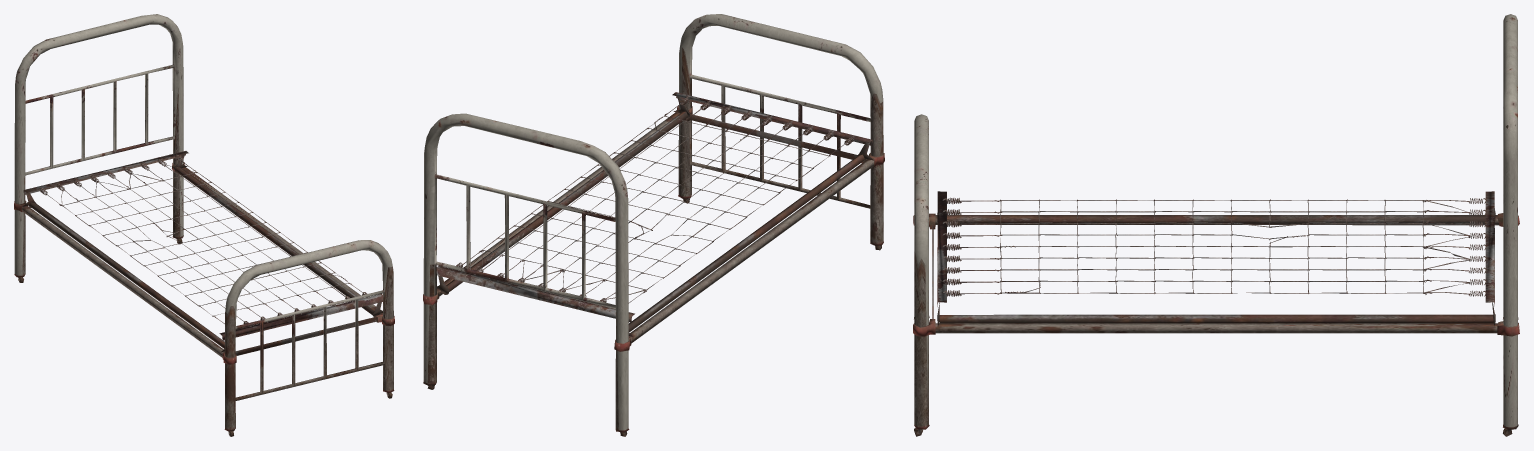
The model's file is old_bed_frame.glb.
3 views of the same model, side by side, from view 1: azimuth 30°, elevation 25°; view 2: azimuth 150°, elevation 25°; view 3: azimuth 270°, elevation 25° (orthographic). The views are drawn at different scales.
Visible parts, largest first — view 1: old_bed_frame; view 2: old_bed_frame; view 3: old_bed_frame.
Part boxes in pixels (x1,y1,x2,y2): old_bed_frame: (14, 14, 394, 436); old_bed_frame: (423, 14, 884, 436); old_bed_frame: (913, 14, 1519, 436).
Bounding box in the file's own units: 0.9065 × 1.2 × 2.
Materials: 1 (1 with a texture image).
